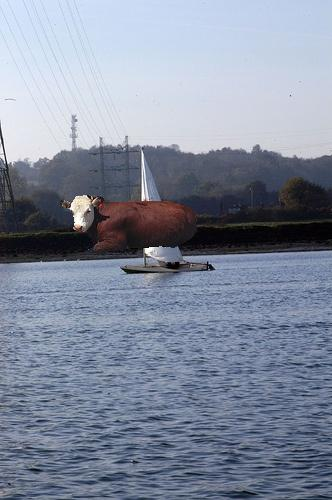tampered: (61, 196, 197, 253)
